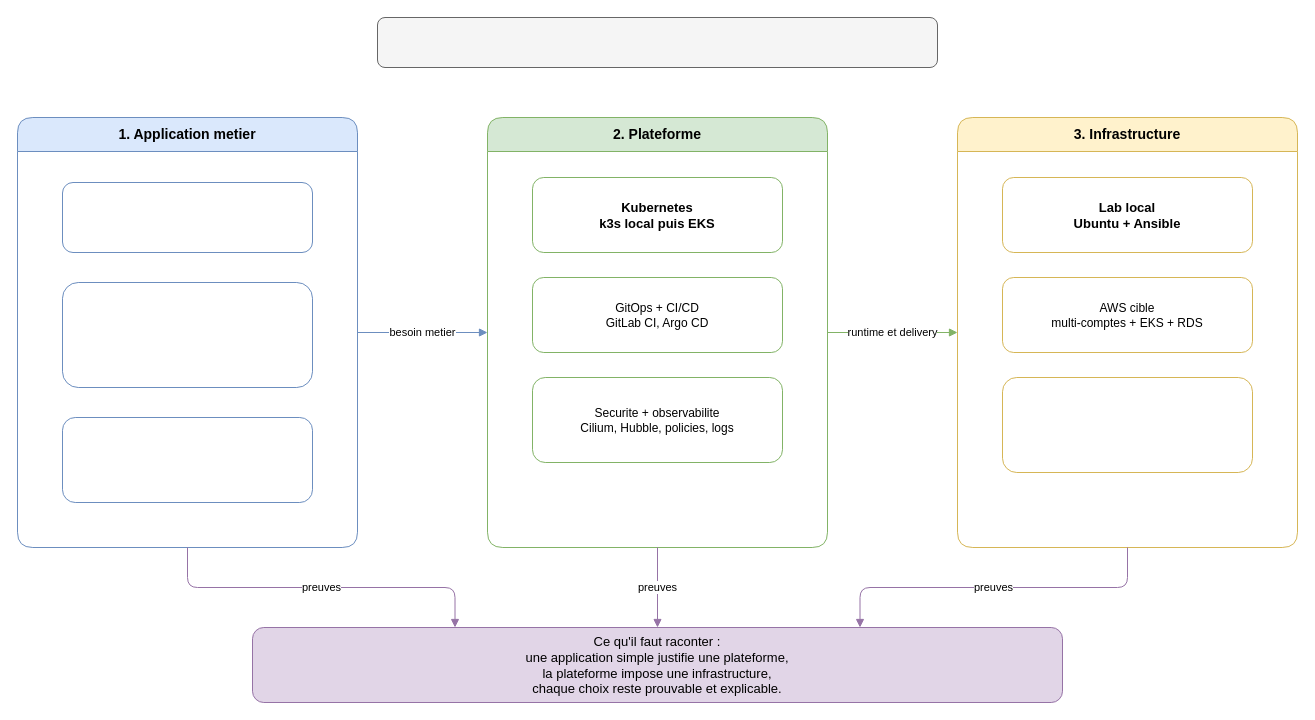
Image size: 1315x720. Some labels were removed from this diagram. The centre of each missing label's shape, as x and y in pixels:
"Catalogue Panier Commande Paiement simule" belongs at (x=187, y=335).
"Modele mental du projet" belongs at (x=657, y=42).
"ShopDemo e-commerce fictif" belongs at (x=187, y=217).
"Stock Notification Webhook paiement" belongs at (x=187, y=459).
"Terraform bootstrap permanent workload ephemere" belongs at (x=1127, y=424).
